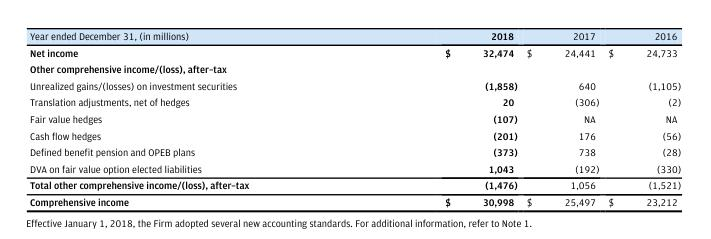table: (29, 29, 680, 207)
table column: (29, 29, 346, 207), (346, 29, 521, 207), (521, 29, 603, 207), (603, 29, 680, 207)
table column header: (29, 29, 680, 43)
table projected row header: (29, 60, 680, 76)
table row: (29, 43, 680, 60), (29, 76, 680, 93), (29, 93, 680, 110), (29, 126, 680, 143), (29, 159, 680, 176), (29, 176, 680, 193), (29, 60, 680, 76), (29, 110, 680, 126), (29, 143, 680, 159), (29, 29, 680, 43), (29, 193, 680, 207)
